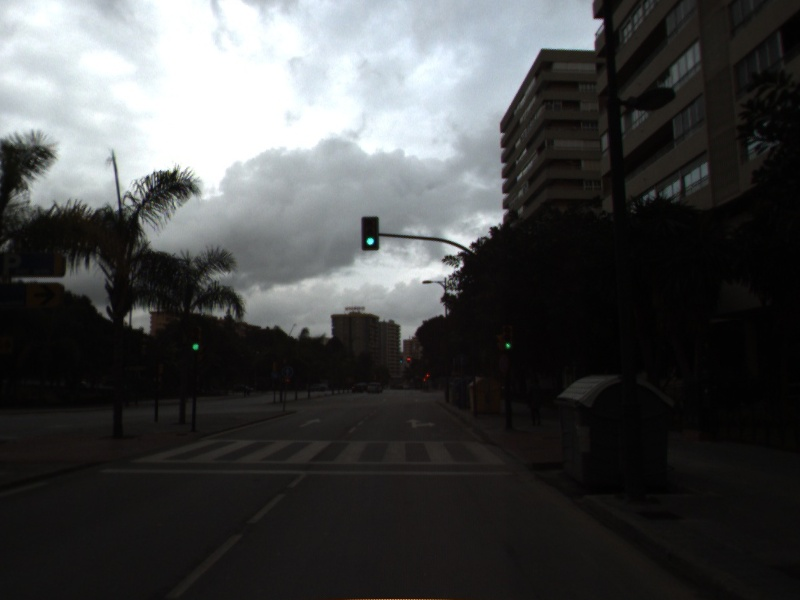STRAIGHT: (296, 416, 323, 430)
STRAIGHT_RIGHT: (403, 416, 439, 430)
